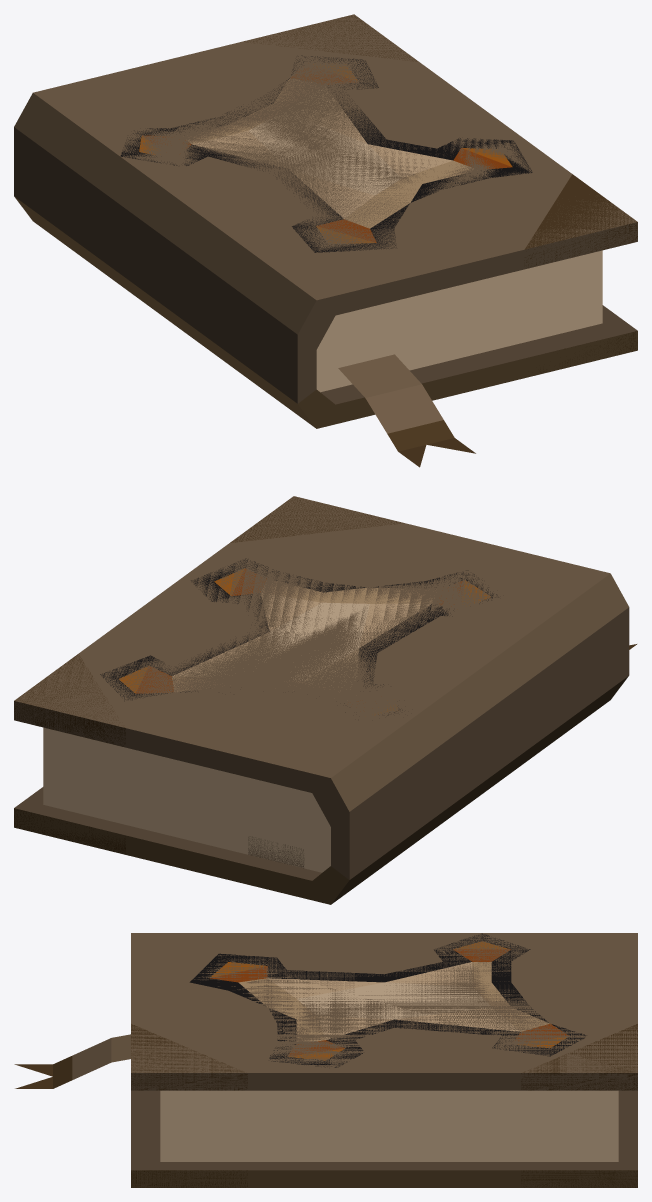
File: master-scroll-book.gltf
The picture shows the model from 3 angles, top to bottom: view 1: azimuth 30°, elevation 25°; view 2: azimuth 150°, elevation 25°; view 3: azimuth 270°, elevation 25°; orthographic projection. The views are drawn at different scales.
Bounding box in the file's own units: 36 × 13 × 64.
Materials: 1 (1 with a texture image).
